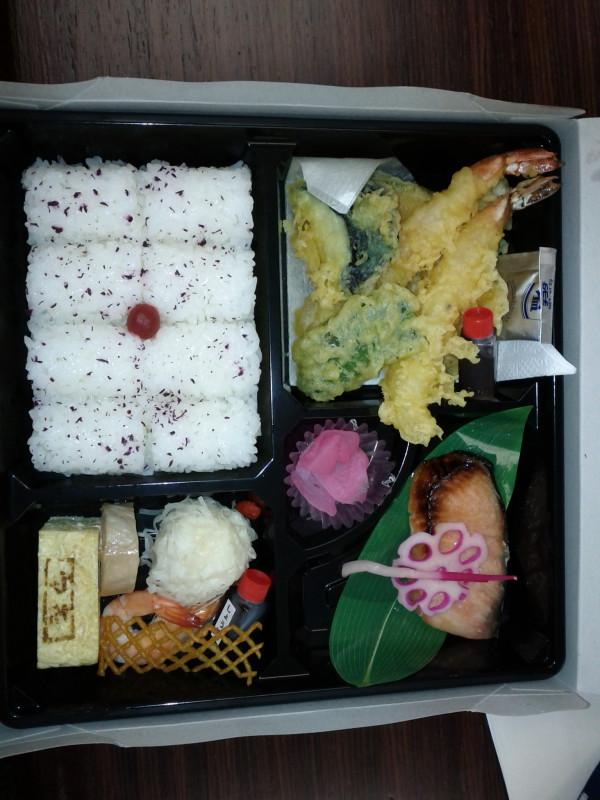rice: (22, 157, 260, 475)
